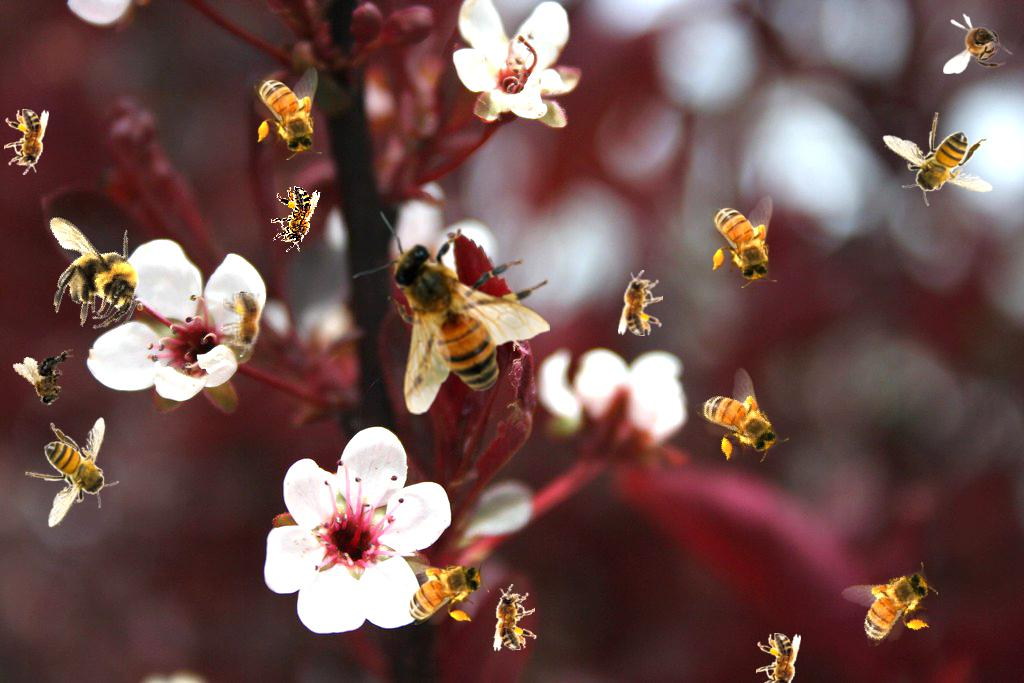Bee: (351, 211, 550, 415), (14, 197, 165, 344), (687, 363, 793, 478), (882, 112, 993, 206), (25, 417, 119, 528), (838, 559, 948, 652), (709, 195, 777, 288), (254, 67, 322, 160), (396, 557, 489, 625), (11, 345, 86, 413), (943, 13, 1013, 74), (267, 183, 321, 256), (487, 582, 539, 653), (4, 109, 49, 175), (618, 270, 663, 336), (221, 291, 266, 357), (756, 633, 801, 683)
